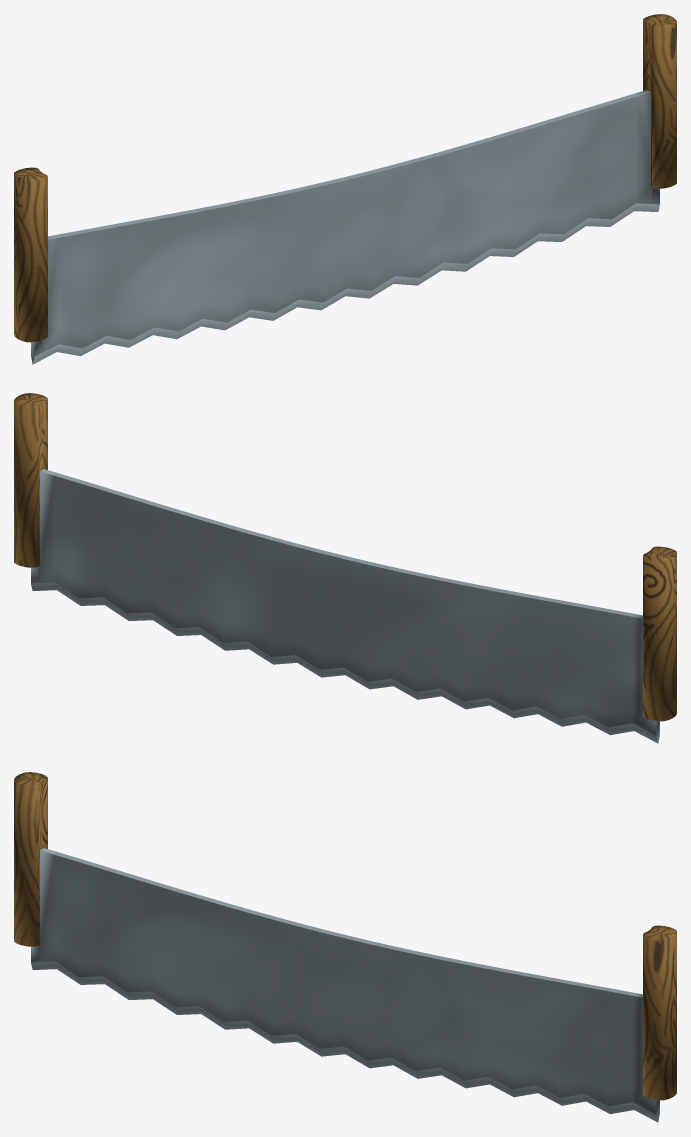
Rendered from sawV1.fbx.
3 views of the same model, one above another, from view 1: azimuth 30°, elevation 25°; view 2: azimuth 150°, elevation 25°; view 3: azimuth 330°, elevation 25° (orthographic).
Parts seen in each view (by area): view 1: sawV1; view 2: sawV1; view 3: sawV1.
Part boxes in pixels (x1,y1,x2,y2): sawV1: (14,14,676,364); sawV1: (14,393,676,743); sawV1: (14,772,676,1122).
Size of the model in its own units: 1.38 by 0.4139 by 0.0601.
2 materials, 2 textured.
